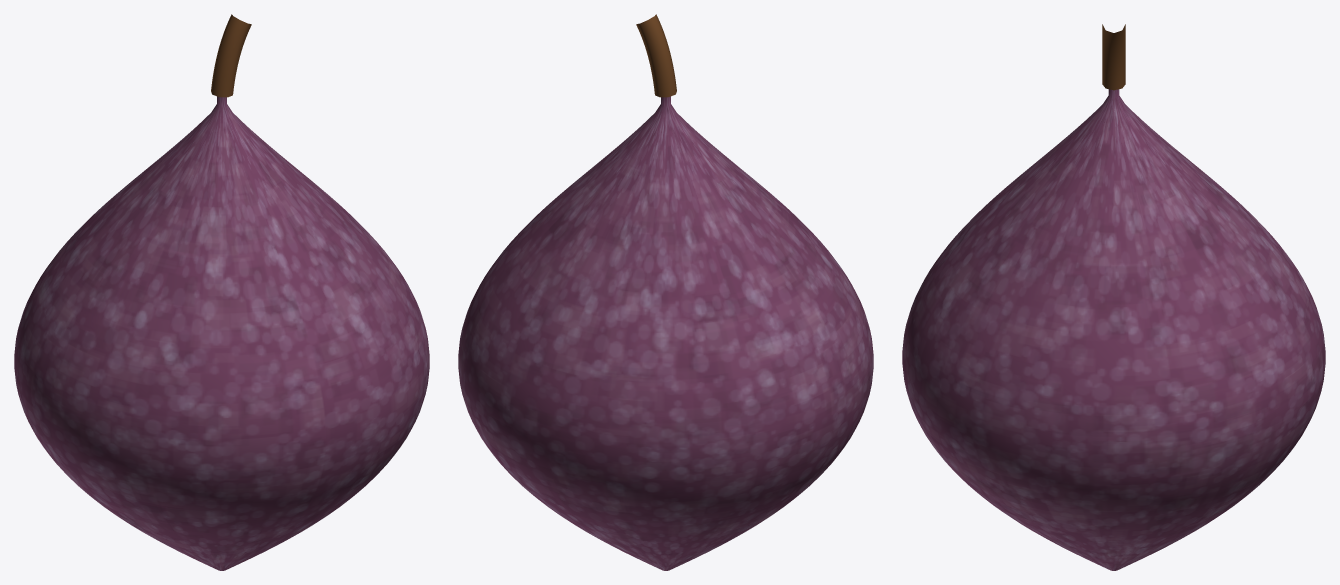
File: fig.glb
The picture shows the model from 3 angles, left to right: view 1: azimuth 30°, elevation 25°; view 2: azimuth 150°, elevation 25°; view 3: azimuth 270°, elevation 25°; orthographic projection.
Size of the model in its own units: 0.1164 by 0.17 by 0.1164.
Materials: 2 (1 with a texture image).
